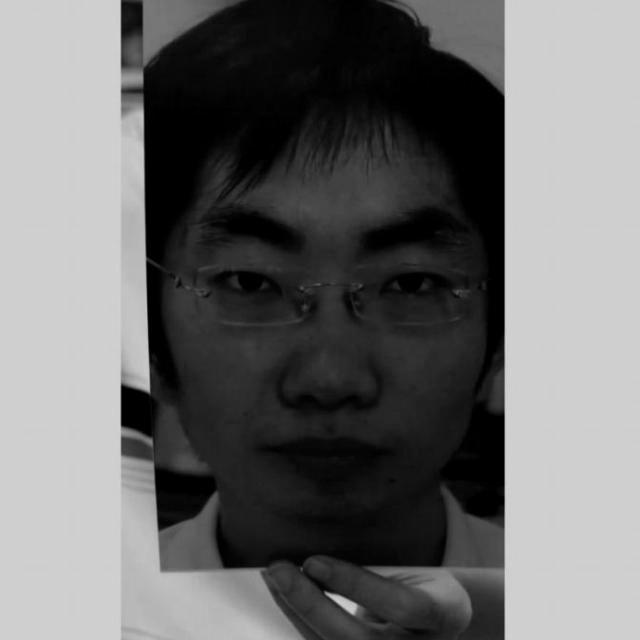fake: (138, 0, 504, 574)
